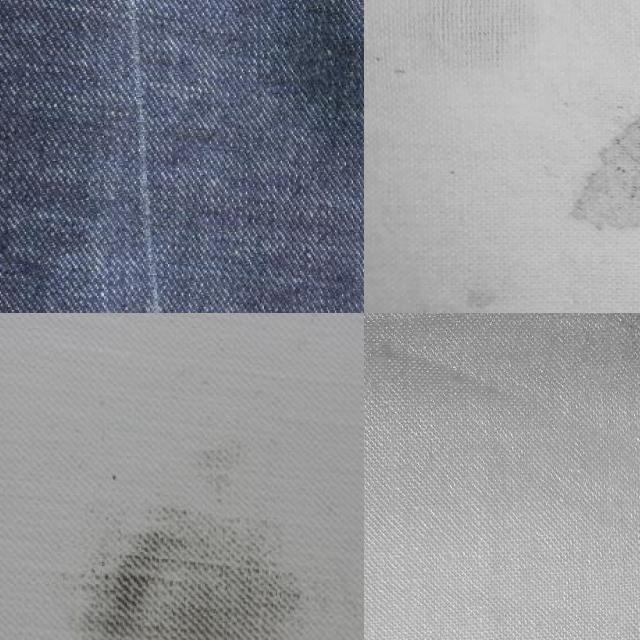Thread_other: (0, 386, 364, 640), (546, 94, 640, 265), (449, 276, 508, 313)
